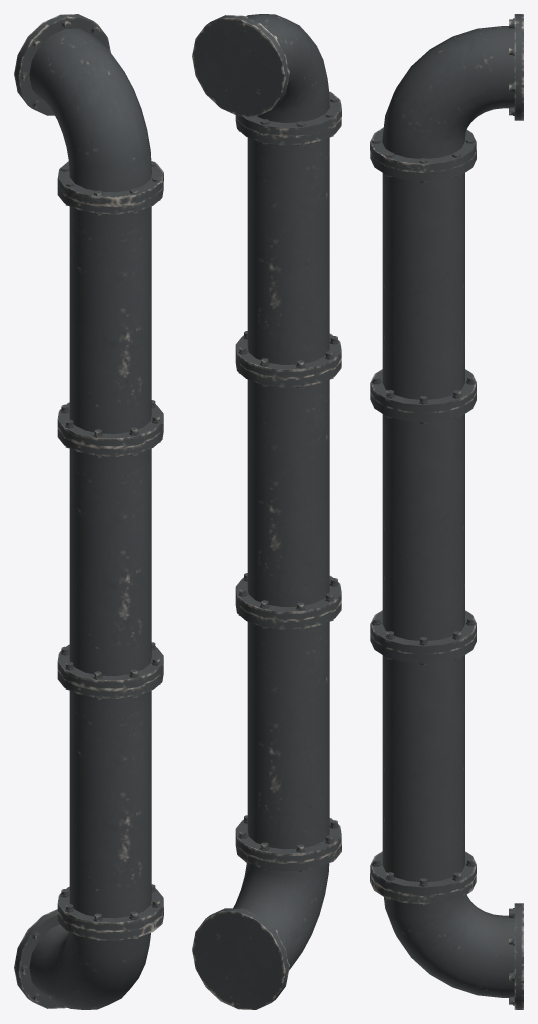
The model's file is Pipe_Combinations_02.fbx.
The picture shows the model from 3 angles, left to right: view 1: azimuth 30°, elevation 25°; view 2: azimuth 150°, elevation 25°; view 3: azimuth 270°, elevation 25°; orthographic projection.
Parts seen in each view (by area): view 1: LP_Corner_Pipe.001; view 2: LP_Corner_Pipe.001; view 3: LP_Corner_Pipe.001.
Part boxes in pixels (x1,y1,x2,y2): LP_Corner_Pipe.001: (14,14,163,1009); LP_Corner_Pipe.001: (192,14,341,1009); LP_Corner_Pipe.001: (370,14,523,1009).
Bounding box in the file's own units: 26.49 × 270 × 38.2.
